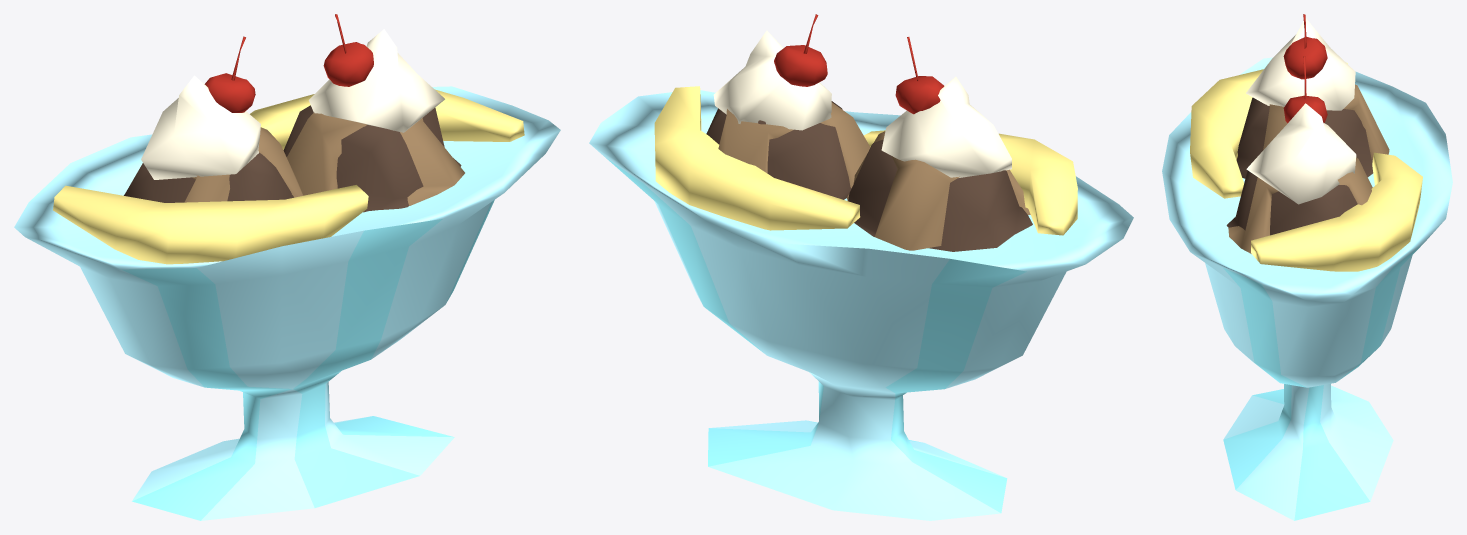
The model's file is 1adcee15-cd4f-44fd-a335-4fc59779434b.glb.
3 views of the same model, side by side, from view 1: azimuth 30°, elevation 25°; view 2: azimuth 150°, elevation 25°; view 3: azimuth 270°, elevation 25° (orthographic). The views are drawn at different scales.
Visible parts, largest first — view 1: BananaSplit; view 2: BananaSplit; view 3: BananaSplit.
Boxes of the visible parts, <box> form: BananaSplit: <box>14,14,560,520</box>; BananaSplit: <box>589,14,1133,520</box>; BananaSplit: <box>1162,14,1452,520</box>.
Bounding box in the file's own units: 0.3296 × 0.2684 × 0.171.
Materials: 1 (1 with a texture image).
